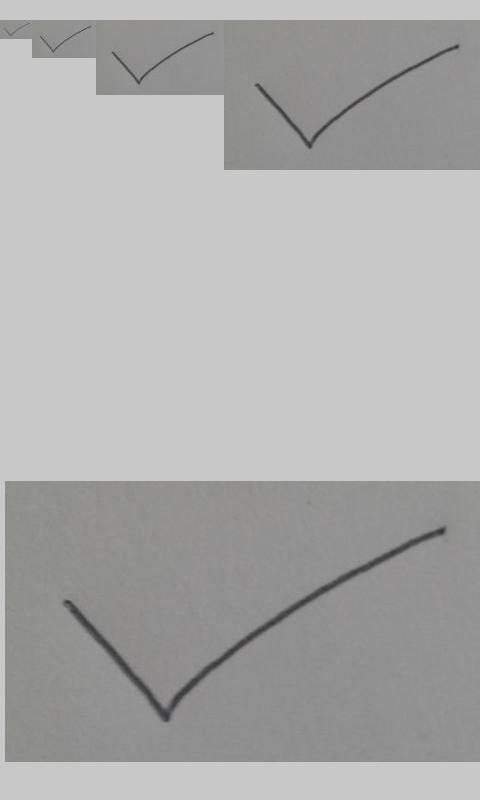check_box: (63, 526, 447, 720), (255, 45, 460, 149), (112, 32, 215, 85), (40, 26, 92, 53), (4, 23, 29, 36)
